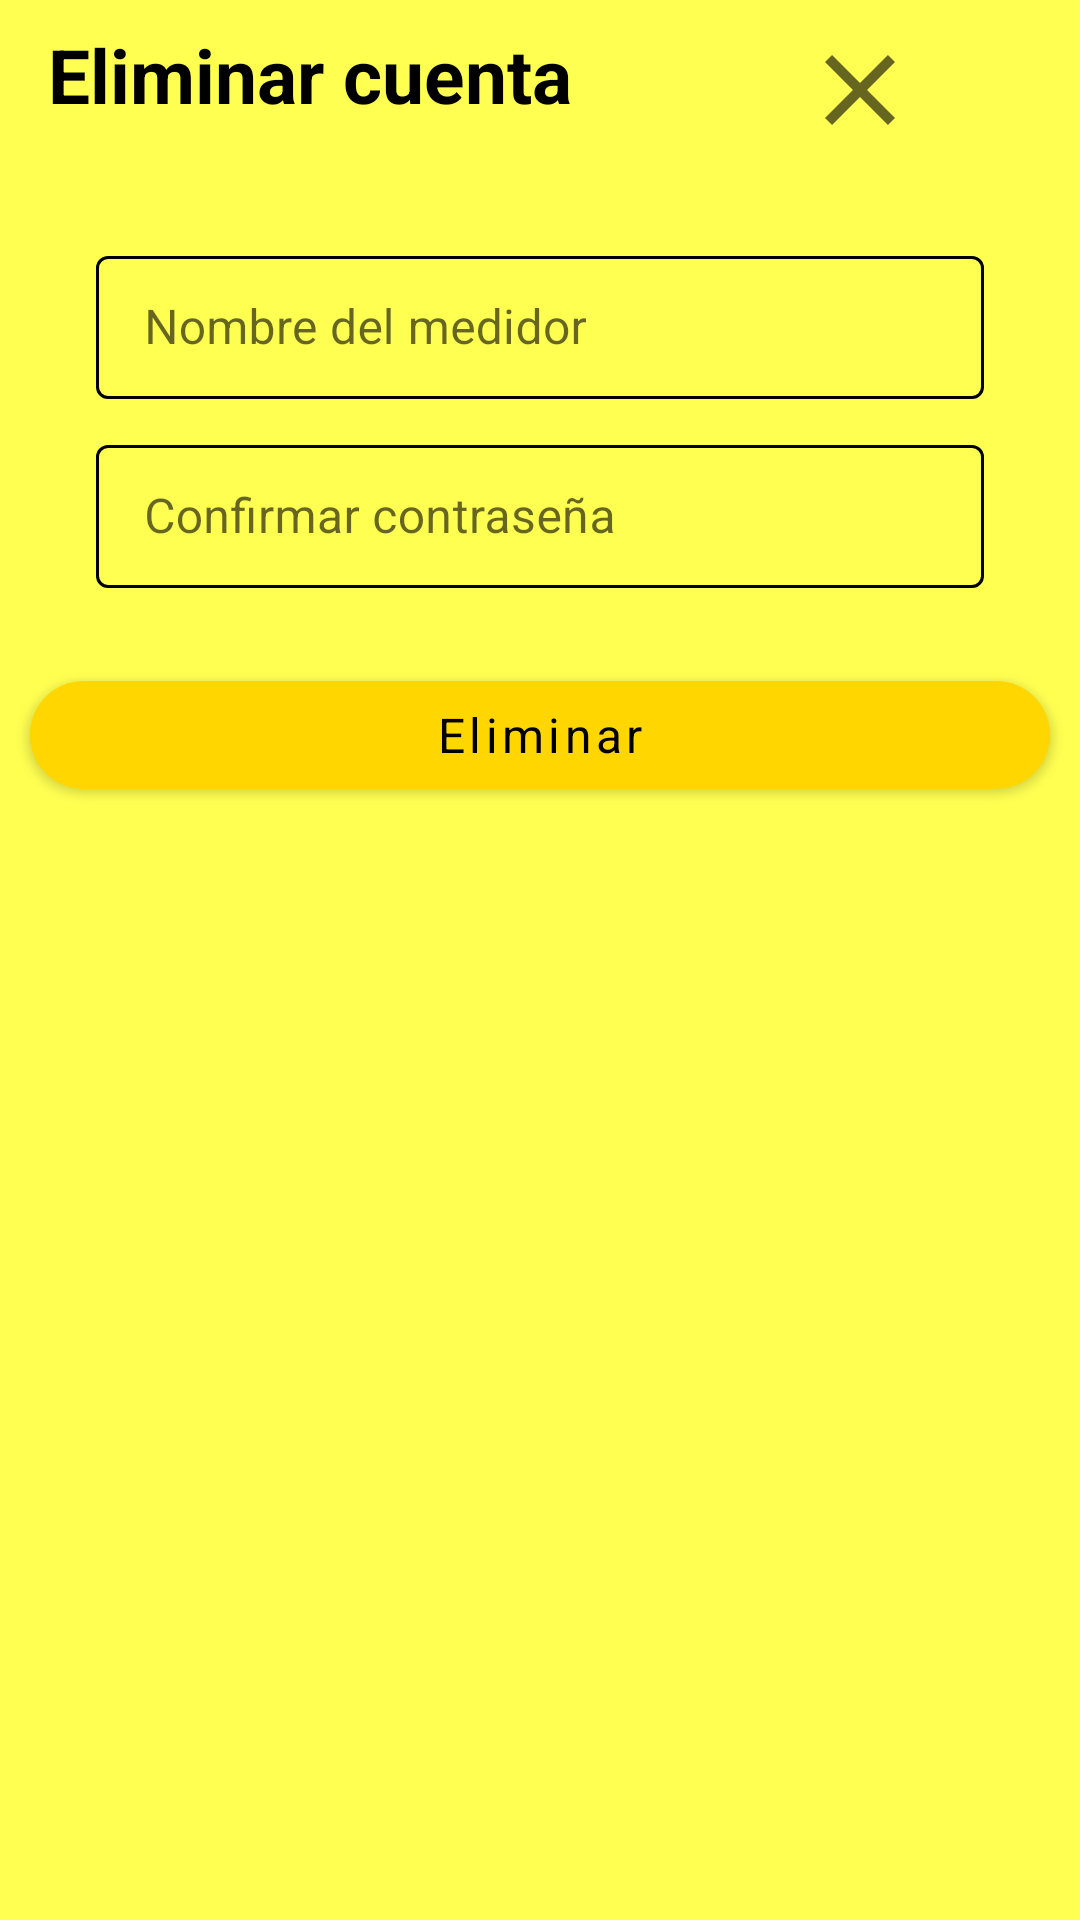

Icon bounding boxes for this 1080 × 1920 phone screenshot, format (x1, y1, x2, y2):
close: (825, 55, 895, 125)
